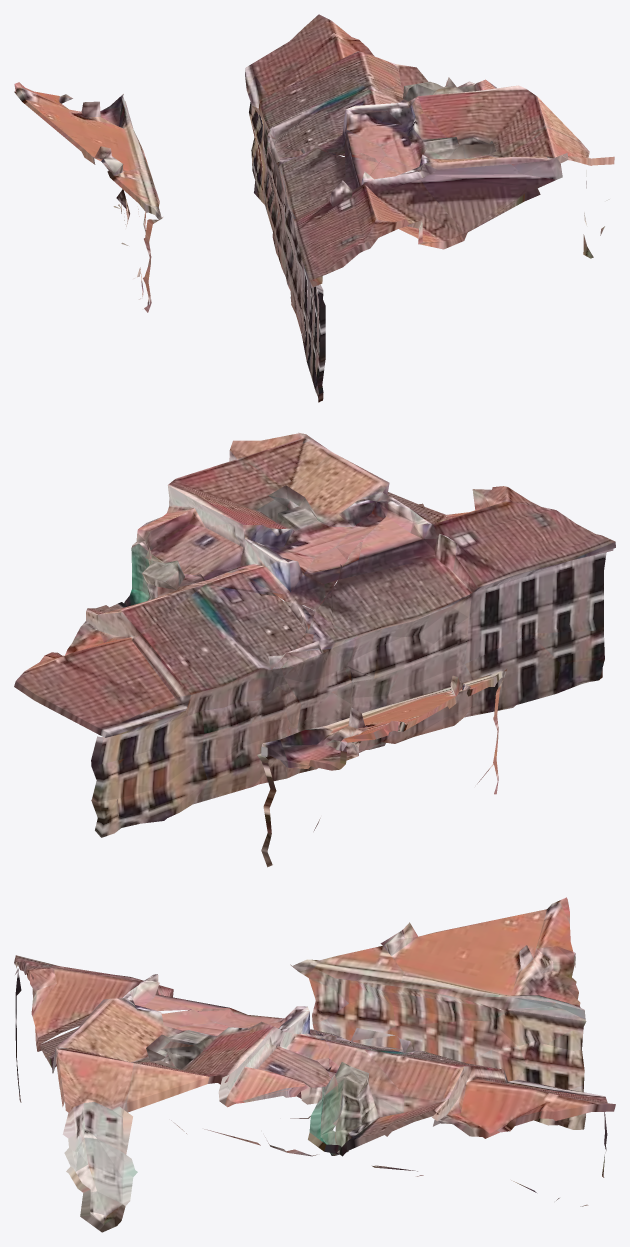
3 views of the same model, one above another, from view 1: azimuth 30°, elevation 25°; view 2: azimuth 150°, elevation 25°; view 3: azimuth 270°, elevation 25° (orthographic). The views are drawn at different scales.
Visible parts, largest first — view 1: Mesh_0; view 2: Mesh_0; view 3: Mesh_0.
Part boxes in pixels (x1,y1,x2,y2): Mesh_0: (14,14,614,402); Mesh_0: (14,432,615,867); Mesh_0: (14,897,615,1232).
Size of the model in its own units: 33.28 by 14.9 by 41.4.
Materials: 1 (1 with a texture image).
